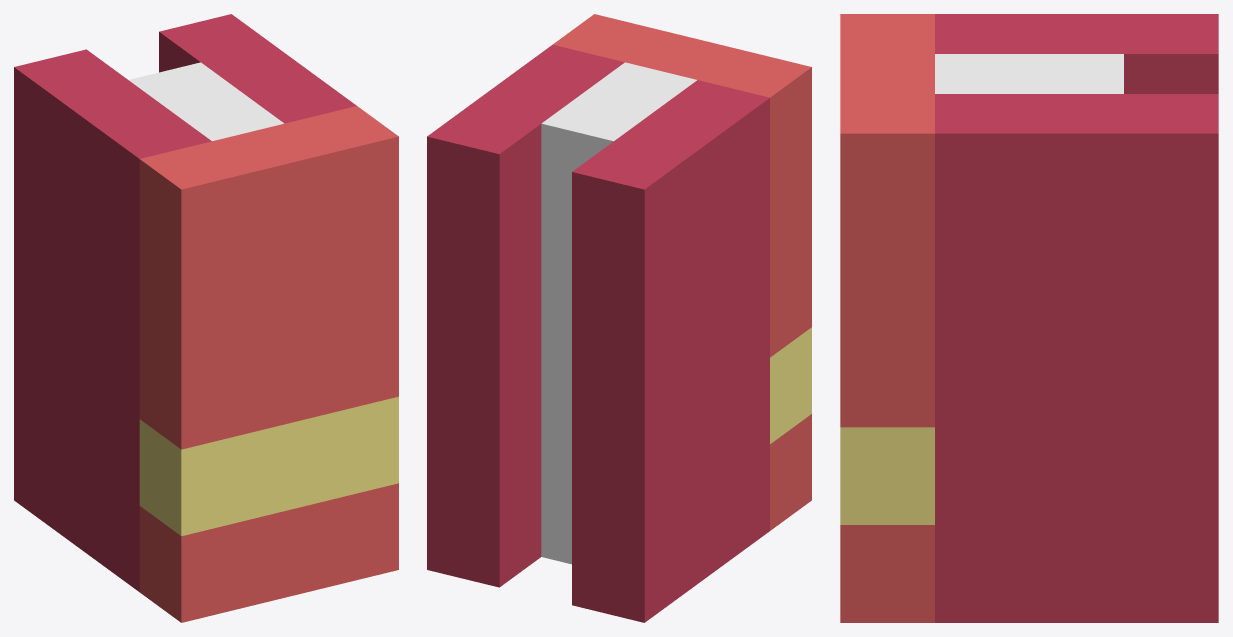
File: book_red.obj
3 renders of one model, left to right at view 1: azimuth 30°, elevation 25°; view 2: azimuth 150°, elevation 25°; view 3: azimuth 270°, elevation 25°, orthographic. The views are drawn at different scales.
Parts seen in each view (by area): view 1: book_red; view 2: book_red; view 3: book_red.
Boxes of the visible parts, <box> form: book_red: <box>14,14,398,622</box>; book_red: <box>427,14,811,622</box>; book_red: <box>840,14,1218,622</box>.
Bounding box in the file's own units: 3.52 × 6.71 × 4.7.
Materials: 1 (1 with a texture image).
